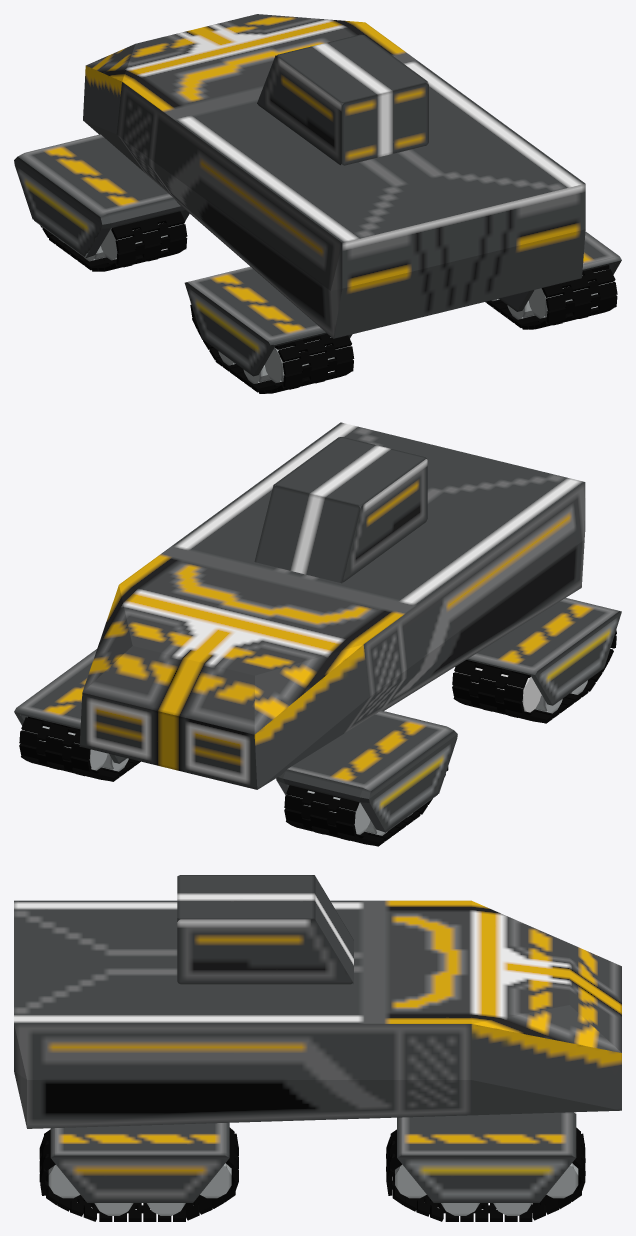
The model's file is MainBase-lvl-1.fbx.
3 renders of one model, top to bottom at view 1: azimuth 30°, elevation 25°; view 2: azimuth 150°, elevation 25°; view 3: azimuth 270°, elevation 25°, orthographic. The views are drawn at different scales.
Visible parts, largest first — view 1: cube_5, cube, cube_2, cube_1, cube_8, cube_9, cube_7, cube_4, cylinder_1, cylinder_9; view 2: cube_5, cube, cube_2, cube_1, cube_8, cube_9, cube_6, cube_3; view 3: cube_5, cube, cube_3, cube_4, cube_7, cube_6, cylinder_4, cylinder_8, cylinder_9, cylinder_5.
Part boxes in pixels (x1=…): cube_5: x1=83, y1=14, x2=585, y2=338; cube: x1=257, y1=34, x2=428, y2=165; cube_2: x1=14, y1=134, x2=189, y2=257; cube_1: x1=184, y1=266, x2=352, y2=376; cube_8: x1=190, y1=305, x2=354, y2=393; cube_9: x1=40, y1=211, x2=187, y2=271; cube_7: x1=485, y1=265, x2=617, y2=329; cube_4: x1=499, y1=231, x2=621, y2=311; cylinder_1: x1=264, y1=337, x2=346, y2=382; cylinder_9: x1=528, y1=270, x2=610, y2=318; cube_5: x1=79, y1=422, x2=585, y2=789; cube: x1=254, y1=437, x2=427, y2=583; cube_2: x1=276, y1=710, x2=457, y2=832; cube_1: x1=455, y1=598, x2=621, y2=705; cube_8: x1=452, y1=630, x2=616, y2=723; cube_9: x1=284, y1=766, x2=448, y2=846; cube_6: x1=19, y1=716, x2=140, y2=781; cube_3: x1=14, y1=649, x2=126, y2=763; cube_5: x1=14, y1=900, x2=621, y2=1128; cube: x1=177, y1=875, x2=353, y2=984; cube_3: x1=397, y1=1112, x2=576, y2=1202; cube_4: x1=50, y1=1122, x2=229, y2=1202; cube_7: x1=39, y1=1127, x2=238, y2=1221; cube_6: x1=386, y1=1127, x2=585, y2=1221; cylinder_4: x1=546, y1=1163, x2=578, y2=1198; cylinder_8: x1=200, y1=1163, x2=231, y2=1198; cylinder_9: x1=48, y1=1165, x2=80, y2=1198; cylinder_5: x1=395, y1=1164, x2=426, y2=1198.
Size of the model in its own units: 406 by 255 by 581.
Materials: 2 (2 with a texture image).
